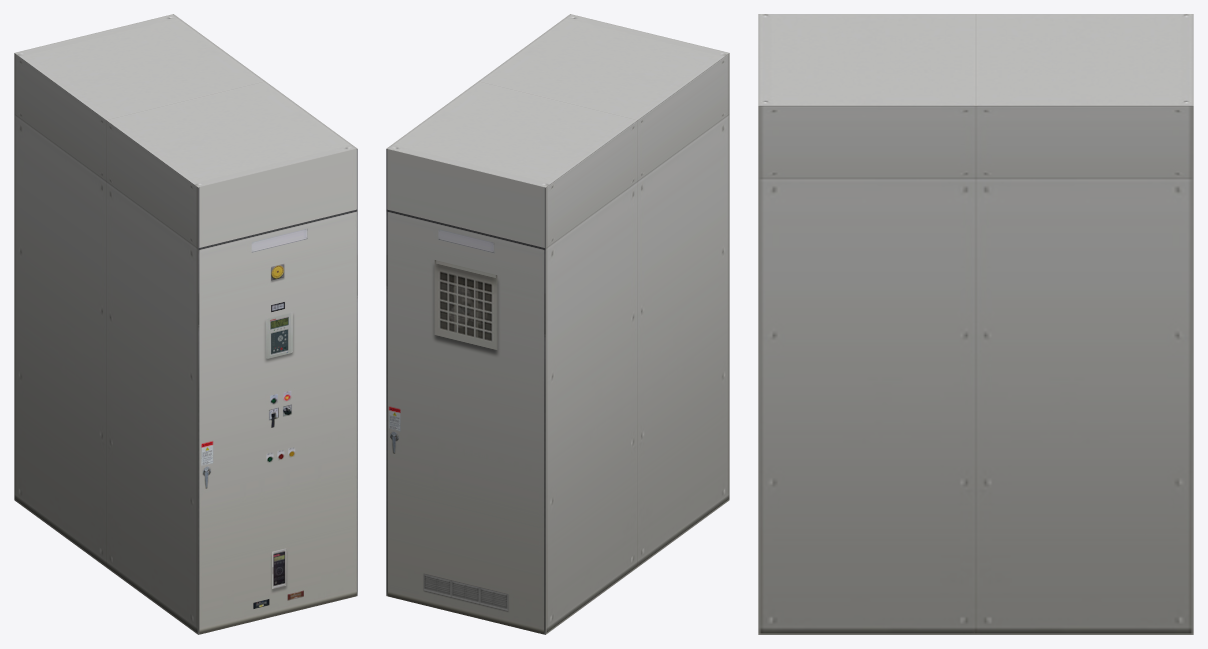
3 views of the same model, side by side, from view 1: azimuth 30°, elevation 25°; view 2: azimuth 150°, elevation 25°; view 3: azimuth 270°, elevation 25° (orthographic). The views are drawn at different scales.
Parts seen in each view (by area): view 1: LV-LO1; view 2: LV-LO1; view 3: LV-LO1.
Boxes of the visible parts, box(x1,y1,x2,y2) form: LV-LO1: box(14, 14, 357, 634); LV-LO1: box(386, 14, 729, 634); LV-LO1: box(758, 14, 1193, 634).
Bounding box in the file's own units: 1.1 × 2.95 × 2.2.
Materials: 1 (1 with a texture image).
